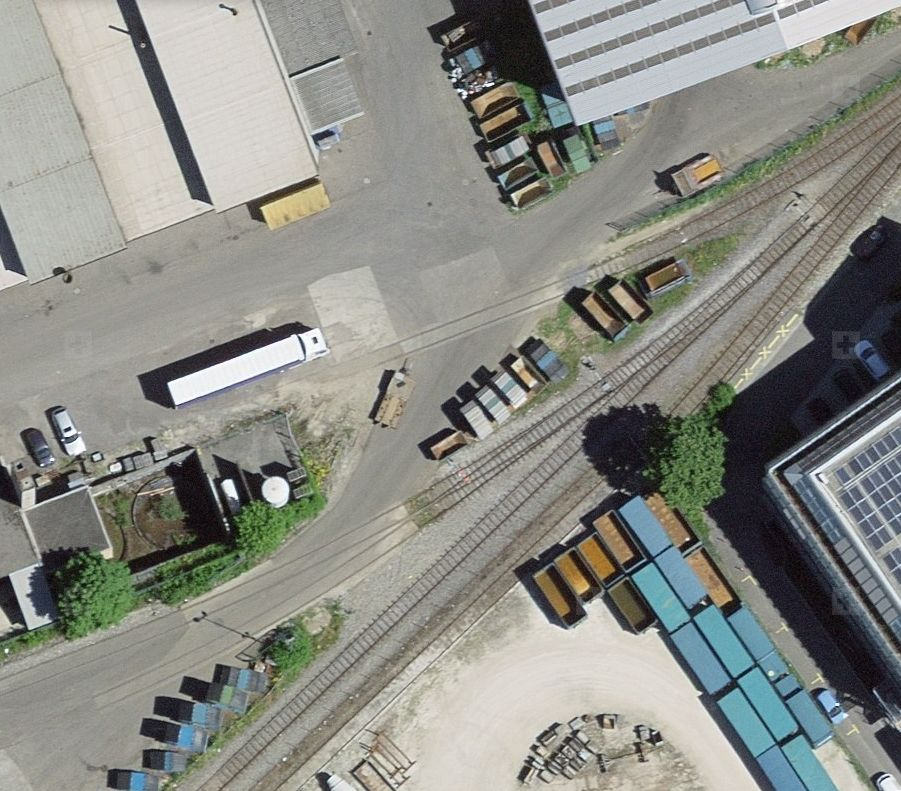solar: (833, 426, 901, 569)
